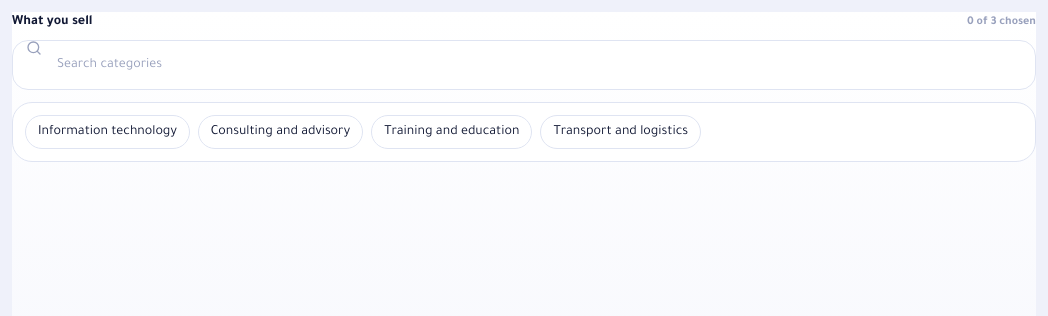
it: What a merchant sells › says so rather than showing an empty box when nothing matches
This screenshot has width=1048, height=316.
expect the button "Information technology" is shown: met, box [25, 115, 190, 149]
Type "zzzz" into the search field labelled "Search categories" at x=524, y=65, box [12, 40, 1036, 90]
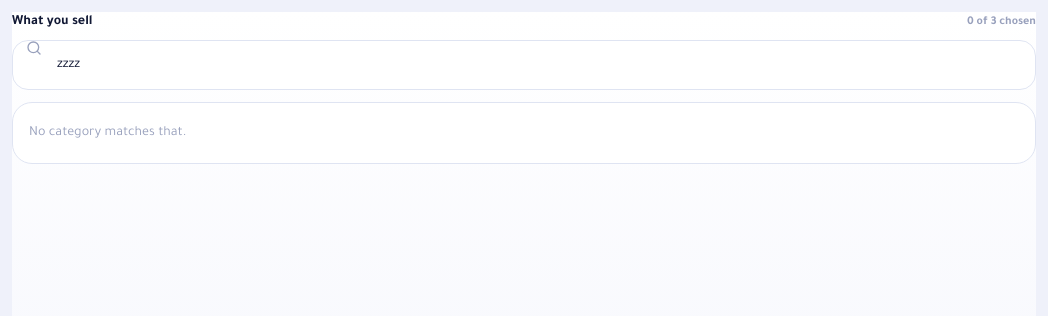
expect the text "No category matches that." is shown: met, box [29, 126, 186, 140]
